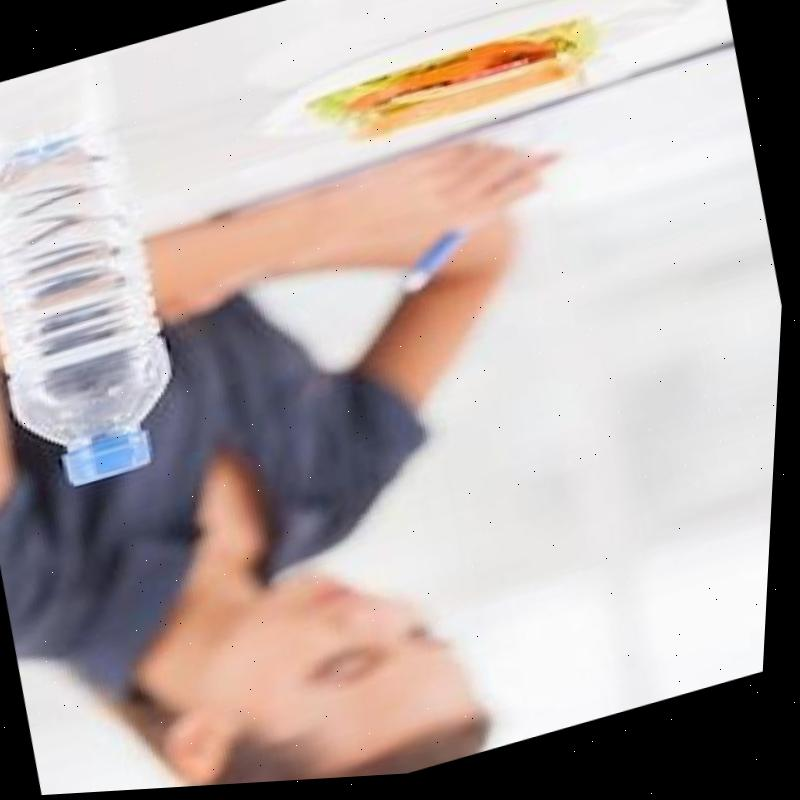botella: (0, 112, 200, 503)
